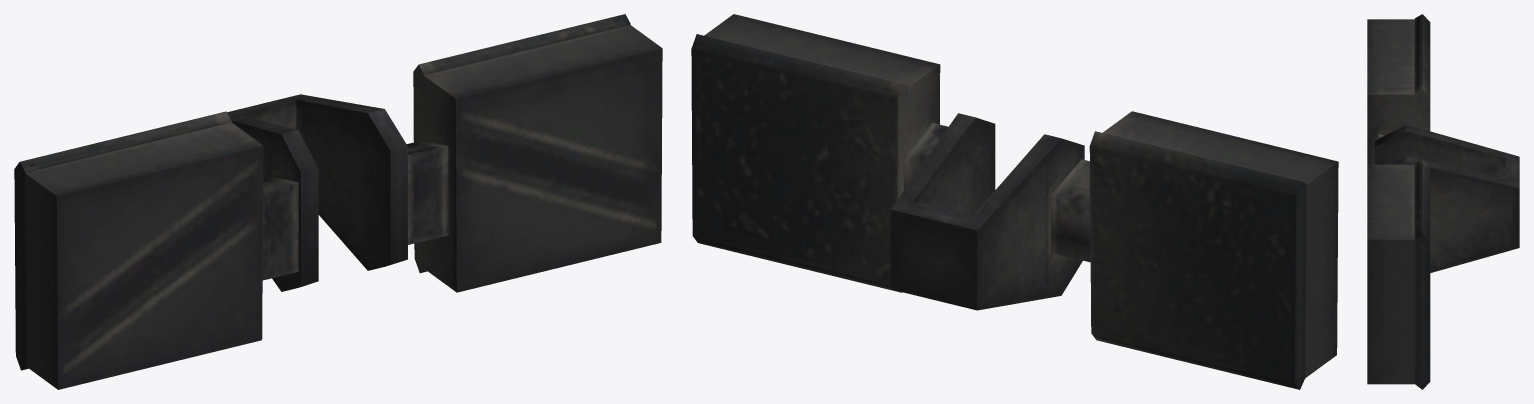
The model's file is segment_pair_0.glb.
3 renders of one model, left to right at view 1: azimuth 30°, elevation 25°; view 2: azimuth 150°, elevation 25°; view 3: azimuth 270°, elevation 25°, orthographic. The views are drawn at different scales.
Visible parts, largest first — view 1: set_0_group_0; view 2: set_0_group_0; view 3: set_0_group_0.
Part boxes in pixels (box(x1,y1,x2,y2)): set_0_group_0: box(14, 14, 662, 389); set_0_group_0: box(691, 14, 1338, 389); set_0_group_0: box(1367, 14, 1519, 389).
Size of the model in its own units: 0.4102 by 0.1353 by 0.12.
1 material, 1 textured.
